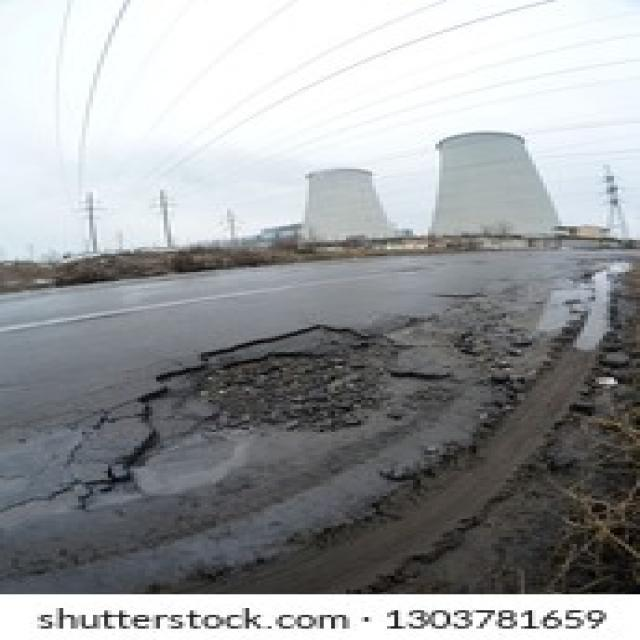Pothole: (112, 320, 450, 496)
